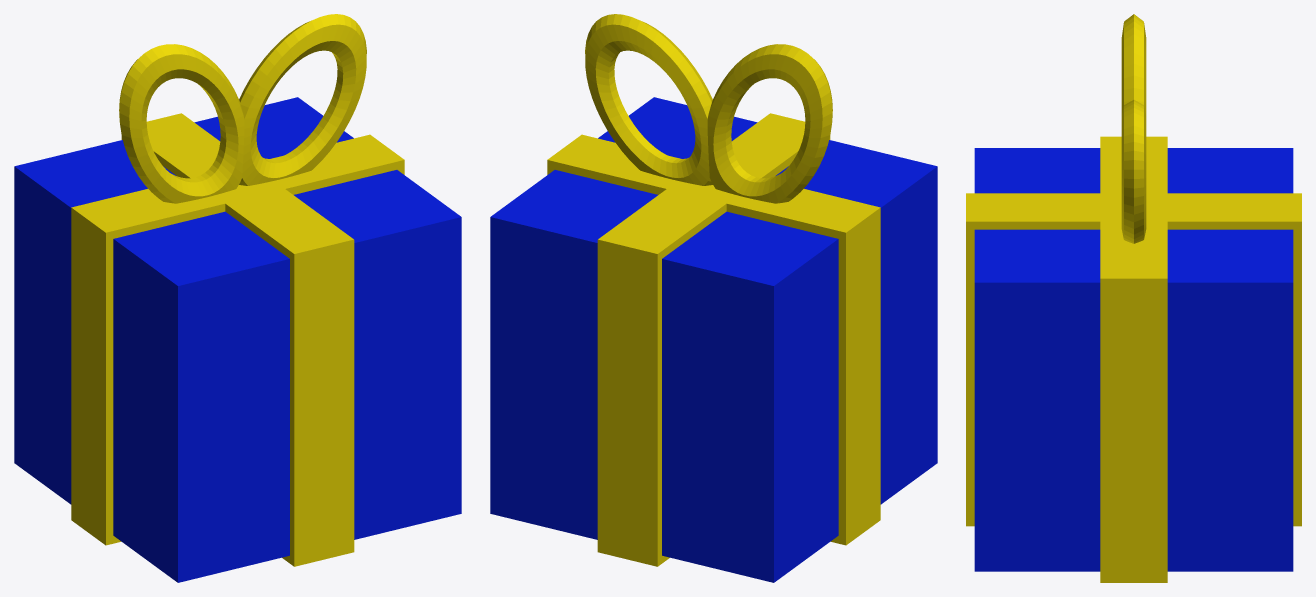
Rendered from presB.fbx.
3 views of the same model, side by side, from view 1: azimuth 30°, elevation 25°; view 2: azimuth 150°, elevation 25°; view 3: azimuth 270°, elevation 25° (orthographic). The views are drawn at different scales.
Visible parts, largest first — view 1: PresB; view 2: PresB; view 3: PresB.
Boxes of the visible parts, <box> form: PresB: <box>14,14,461,582</box>; PresB: <box>490,14,937,582</box>; PresB: <box>966,14,1301,582</box>.
Bounding box in the file's own units: 211 × 317 × 211.
